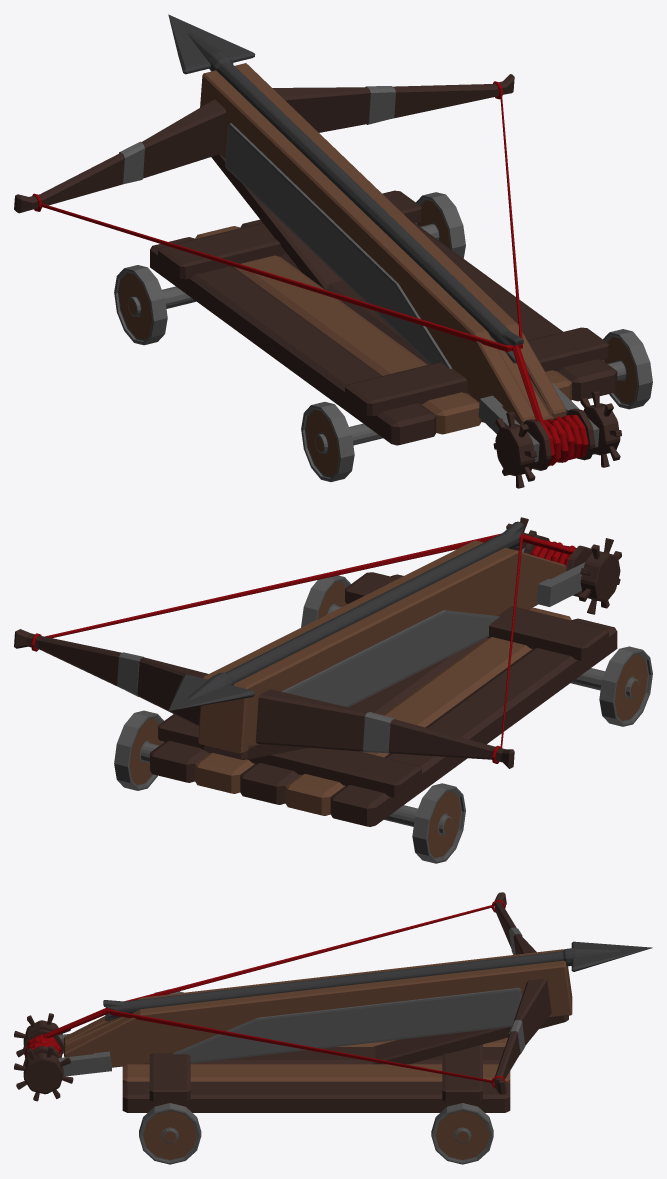
Rendered from Ballista.fbx.
The picture shows the model from 3 angles, top to bottom: view 1: azimuth 30°, elevation 25°; view 2: azimuth 150°, elevation 25°; view 3: azimuth 270°, elevation 25°; orthographic projection. The views are drawn at different scales.
Visible parts, largest first — view 1: BalistaMain, BaillistaArrow, BalistaTurningThing, ArrowRope; view 2: BalistaMain, BaillistaArrow, BalistaTurningThing, ArrowRope; view 3: BalistaMain, BaillistaArrow, BalistaTurningThing, ArrowRope.
Part boxes in pixels (left/top/right/bottom): BalistaMain: left=14, top=63, right=652, bottom=481; BaillistaArrow: left=168, top=14, right=523, bottom=363; BalistaTurningThing: left=493, top=345, right=621, bottom=488; ArrowRope: left=41, top=91, right=522, bottom=351; BalistaMain: left=14, top=540, right=652, bottom=863; BaillistaArrow: left=168, top=521, right=523, bottom=711; BalistaTurningThing: left=506, top=517, right=621, bottom=614; ArrowRope: left=45, top=533, right=522, bottom=747; BalistaMain: left=58, top=892, right=572, bottom=1164; BaillistaArrow: left=103, top=941, right=652, bottom=1020; BalistaTurningThing: left=14, top=1007, right=109, bottom=1101; ArrowRope: left=109, top=905, right=492, bottom=1082.
Size of the model in its own units: 2200 by 852 by 3131.
